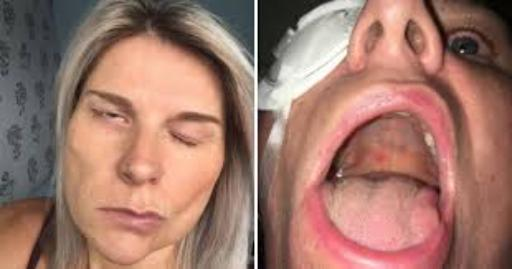left_eye: (446, 23, 499, 64), (169, 122, 207, 151)
left_lip_corner: (439, 179, 471, 211), (153, 206, 172, 228)
right_eye: (90, 103, 133, 129)
right_lip_corner: (304, 162, 333, 198), (94, 203, 120, 218)
